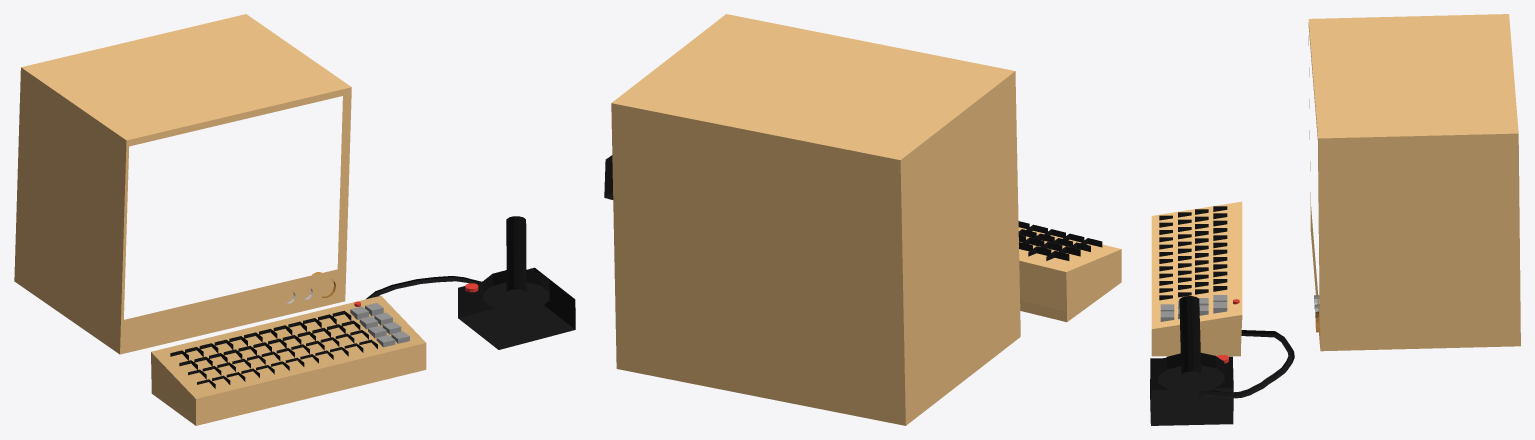
File: dog.glb
3 views of the same model, side by side, from view 1: azimuth 30°, elevation 25°; view 2: azimuth 150°, elevation 25°; view 3: azimuth 270°, elevation 25° (orthographic). The views are drawn at different scales.
Parts seen in each view (by area): view 1: Buffer Layer (×3); view 2: Buffer Layer (×2); view 3: Buffer Layer (×3).
Part boxes in pixels (x1,y1,x2,y2): Buffer Layer (×3): (14,14,575,425); Buffer Layer (×2): (604,14,1121,425); Buffer Layer (×3): (1150,14,1520,425).
Bounding box in the file's own units: 5.7 × 3.25 × 4.75.
